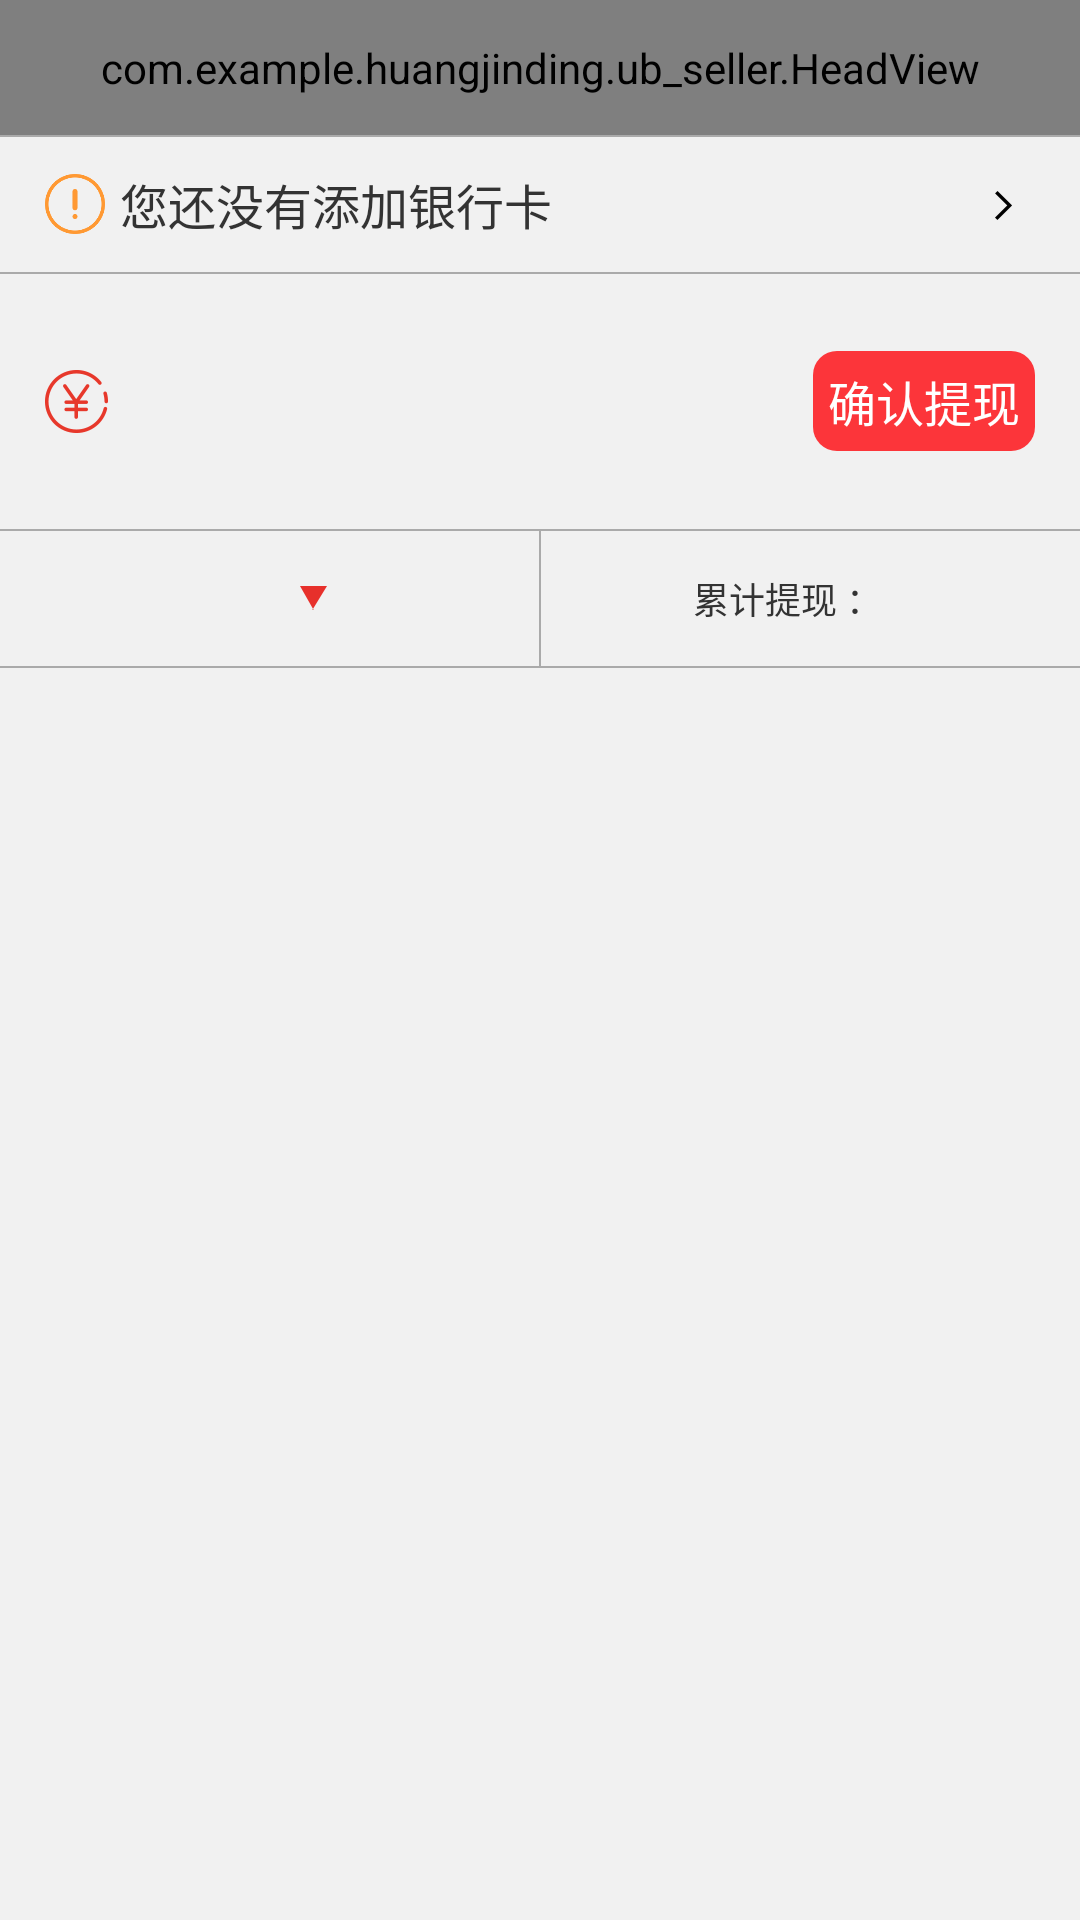

Point at icon controls on the screen. Image size 1080 x 1920, points as [x,y].
error: [75,204]
sanijao: [313,598]
tixian: [76,401]
xiaojiantou: [1003,205]
